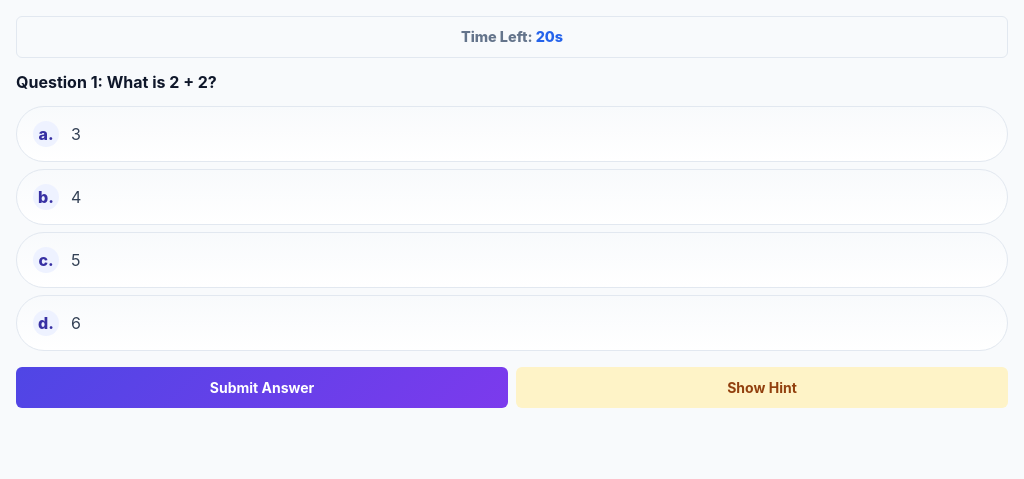
MCQCard › Hint toggle › toggles hint button label
The image size is (1024, 479).
What coordinates should you click on to do the following:
click the button "Show Hint"
I would click on:
 (762, 387)
Its box is x1=516 y1=367 x2=1008 y2=408.
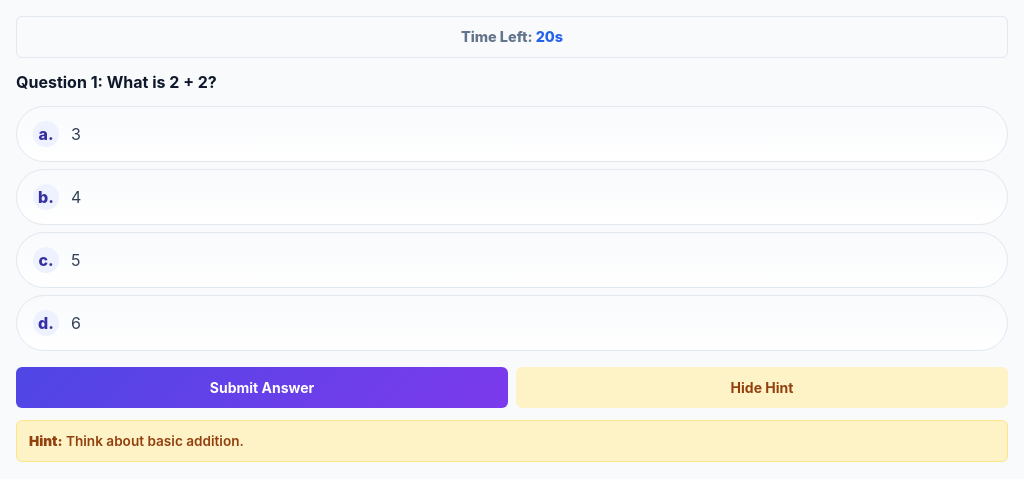
Expected: the button "Hide Hint" is shown
What coordinates should you click on to do the following:
click the button "Hide Hint"
I would click on:
 (762, 387)
Its box is x1=516 y1=367 x2=1008 y2=408.
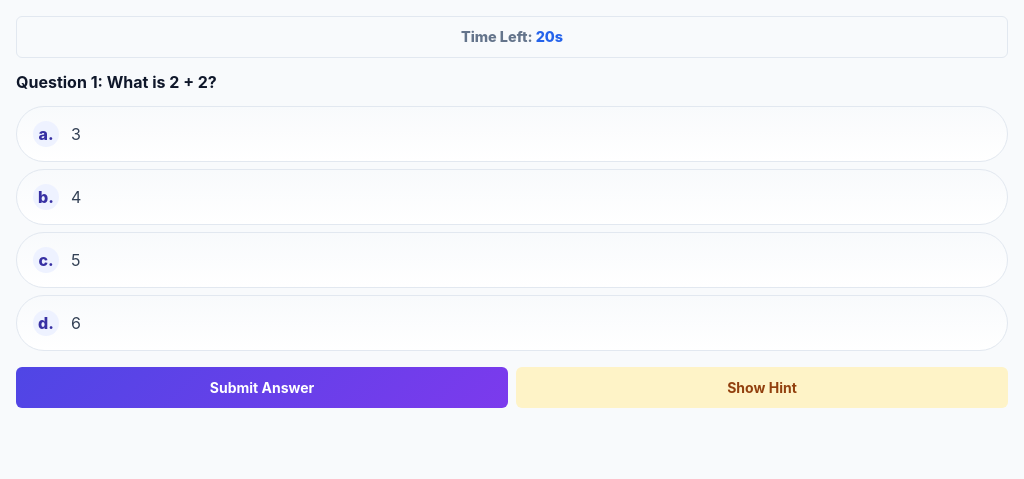
Expected: the button "Show Hint" is shown, x1=516 y1=367 x2=1008 y2=408
